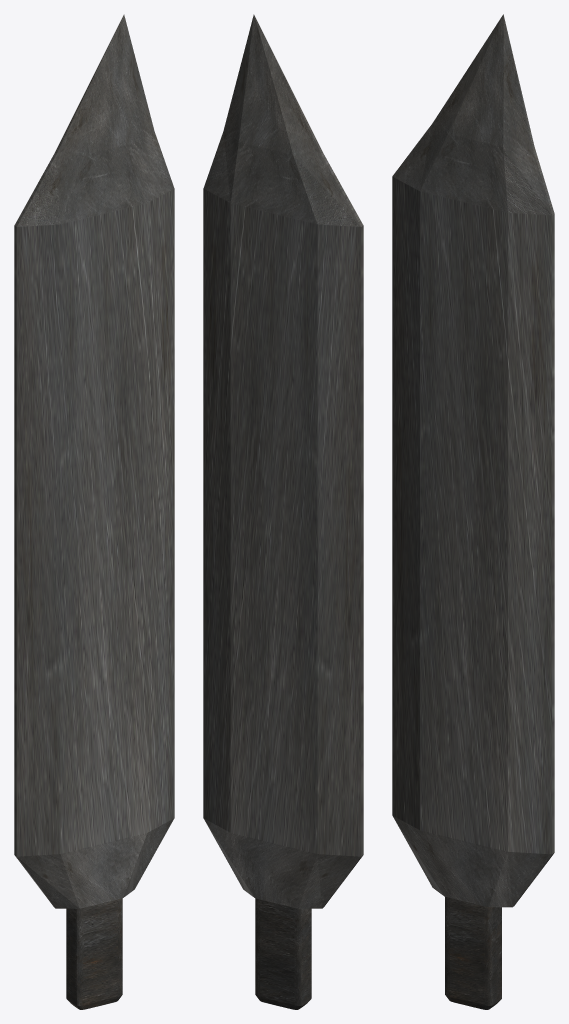
File: long_blade.obj
3 views of the same model, side by side, from view 1: azimuth 30°, elevation 25°; view 2: azimuth 150°, elevation 25°; view 3: azimuth 330°, elevation 25° (orthographic).
Visible parts, largest first — view 1: blade, tang; view 2: blade, tang; view 3: blade, tang.
Part boxes in pixels (x1=…): blade: x1=14, y1=14, x2=174, y2=908; tang: x1=66, y1=898, x2=122, y2=1009; blade: x1=203, y1=14, x2=363, y2=908; tang: x1=255, y1=898, x2=311, y2=1009; blade: x1=392, y1=14, x2=554, y2=907; tang: x1=445, y1=897, x2=501, y2=1009.
Bounding box in the file's own units: 18.86 × 112 × 3.89.
Materials: 2 (2 with a texture image).
